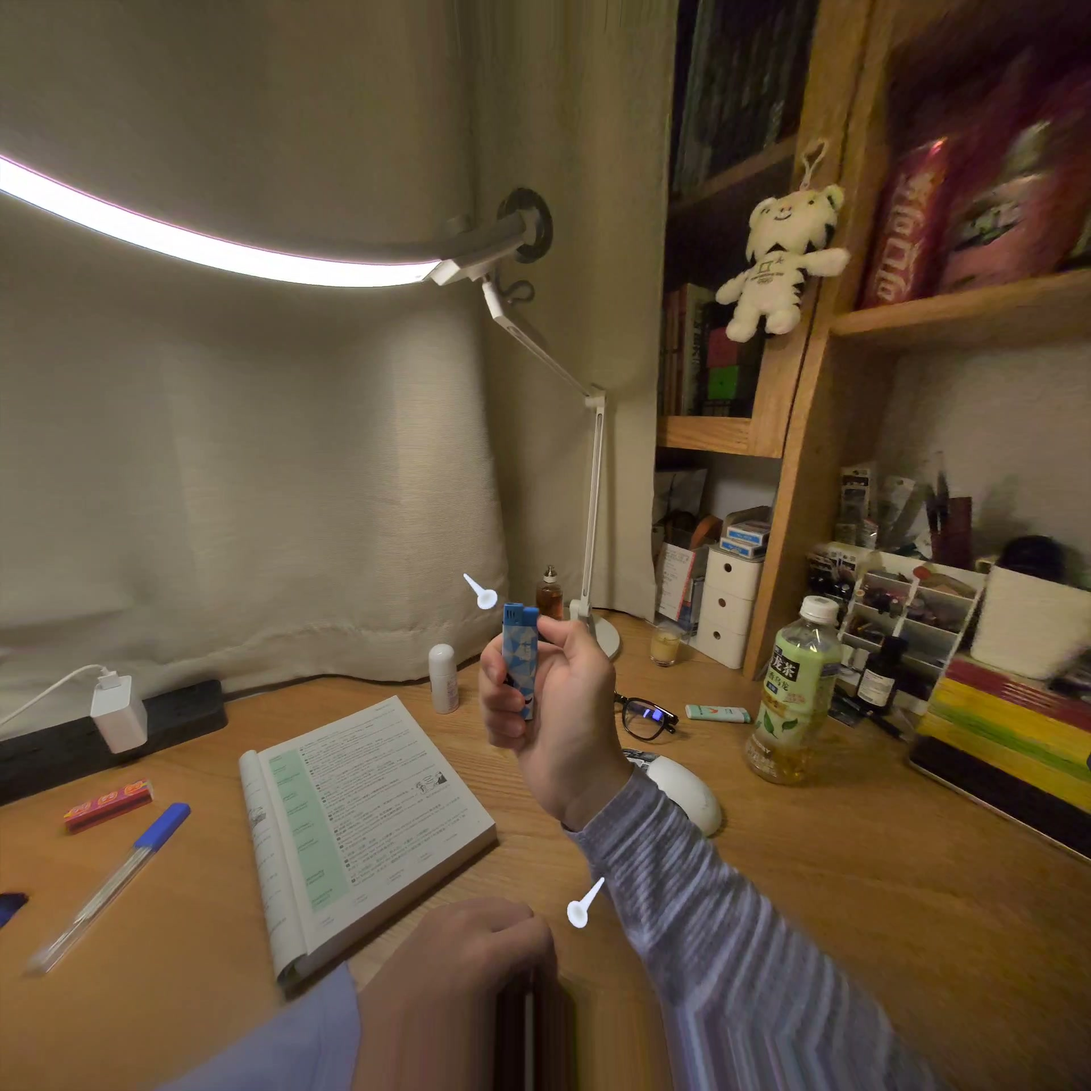lighter: (502, 603, 539, 719)
